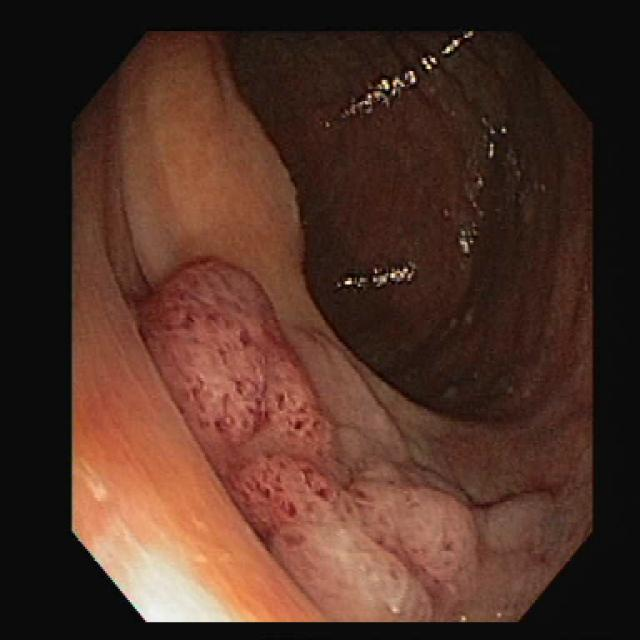tumor: (140, 260, 473, 618)
